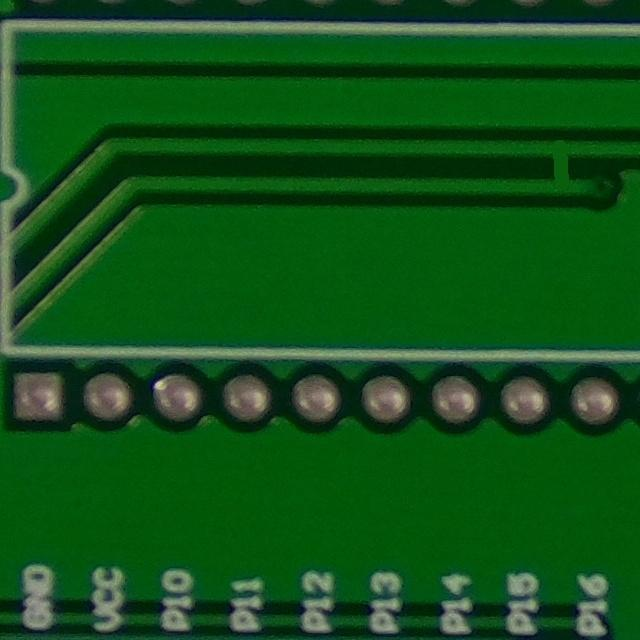short: (518, 130, 597, 213)
